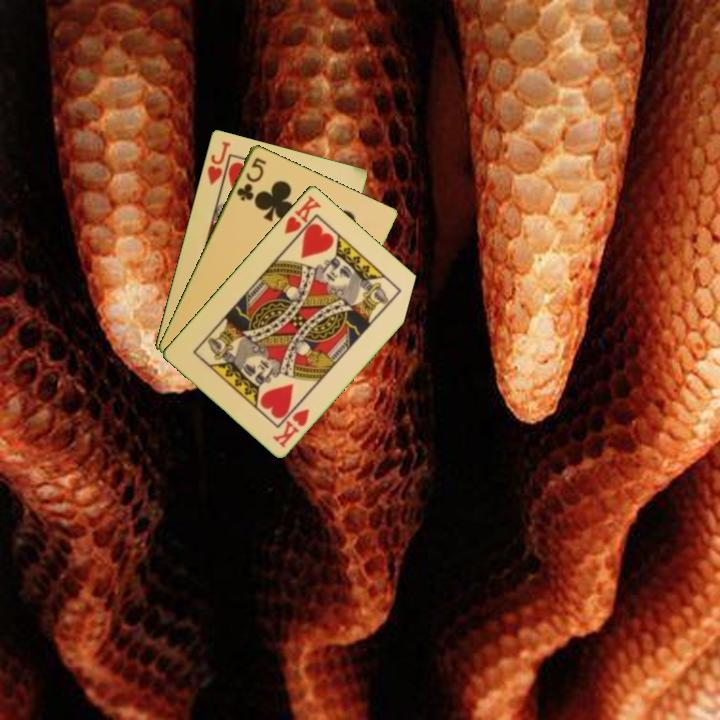5c: (233, 153, 269, 204)
Jh: (203, 137, 233, 188)
Kh: (280, 192, 324, 245), (269, 404, 312, 450)
